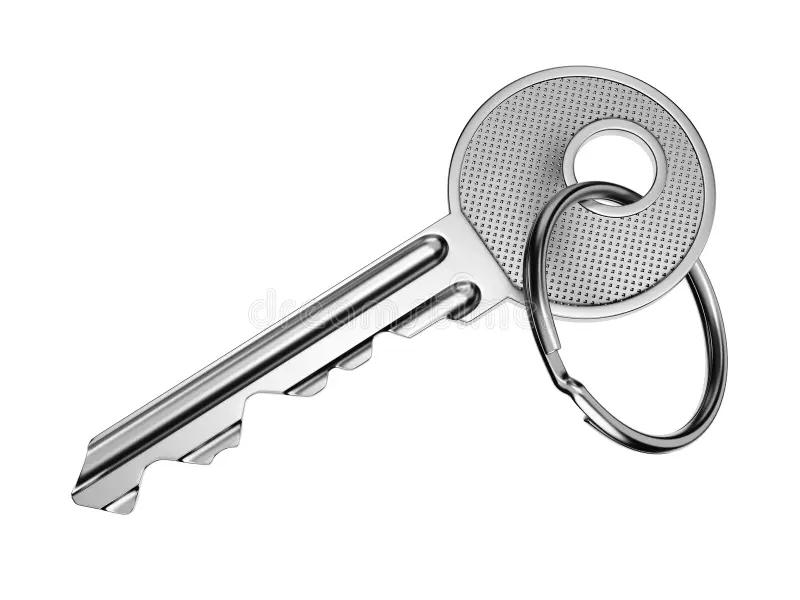key: (72, 59, 719, 527)
